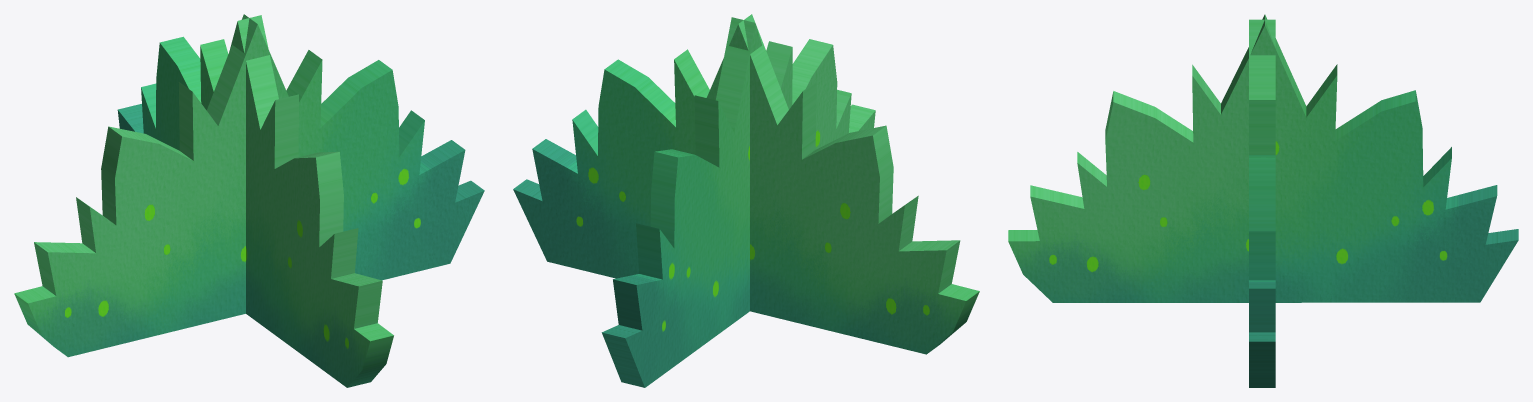
Rendered from bush.fbx.
3 renders of one model, left to right at view 1: azimuth 30°, elevation 25°; view 2: azimuth 150°, elevation 25°; view 3: azimuth 270°, elevation 25°, orthographic. The views are drawn at different scales.
Parts seen in each view (by area): view 1: Bush; view 2: Bush; view 3: Bush.
Boxes of the visible parts, box(x1,y1,x2,y2) form: Bush: box(14, 14, 484, 387); Bush: box(513, 14, 979, 387); Bush: box(1008, 14, 1518, 387).
Size of the model in its own units: 9.75 by 5.85 by 9.75.
